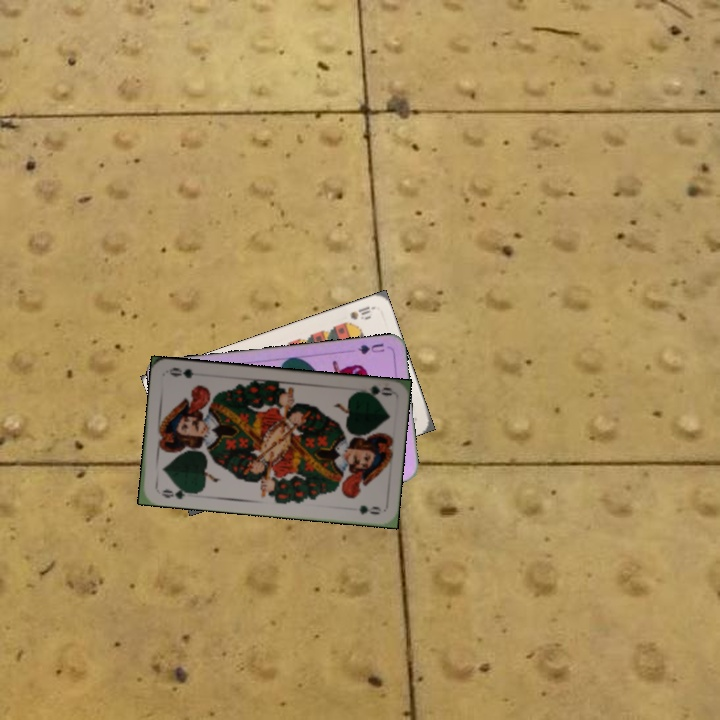GO: (353, 381, 394, 400), (158, 483, 195, 502)
GU: (354, 339, 387, 357)
S10: (346, 302, 375, 322)
